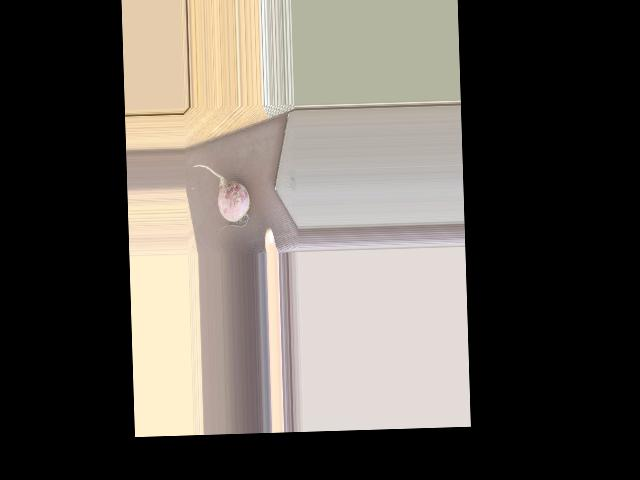beet: (193, 162, 250, 233)
